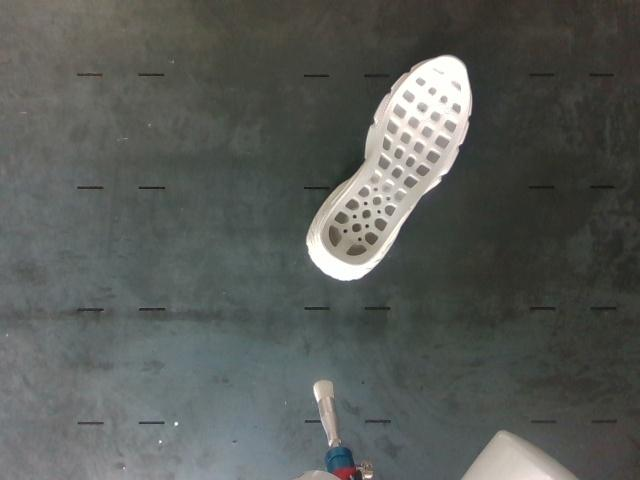shoes: (320, 56, 470, 265)
